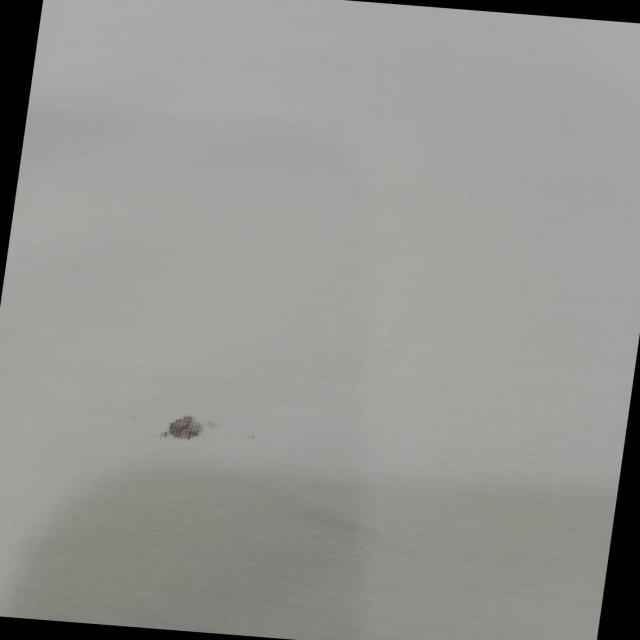stain: (137, 396, 238, 460)
